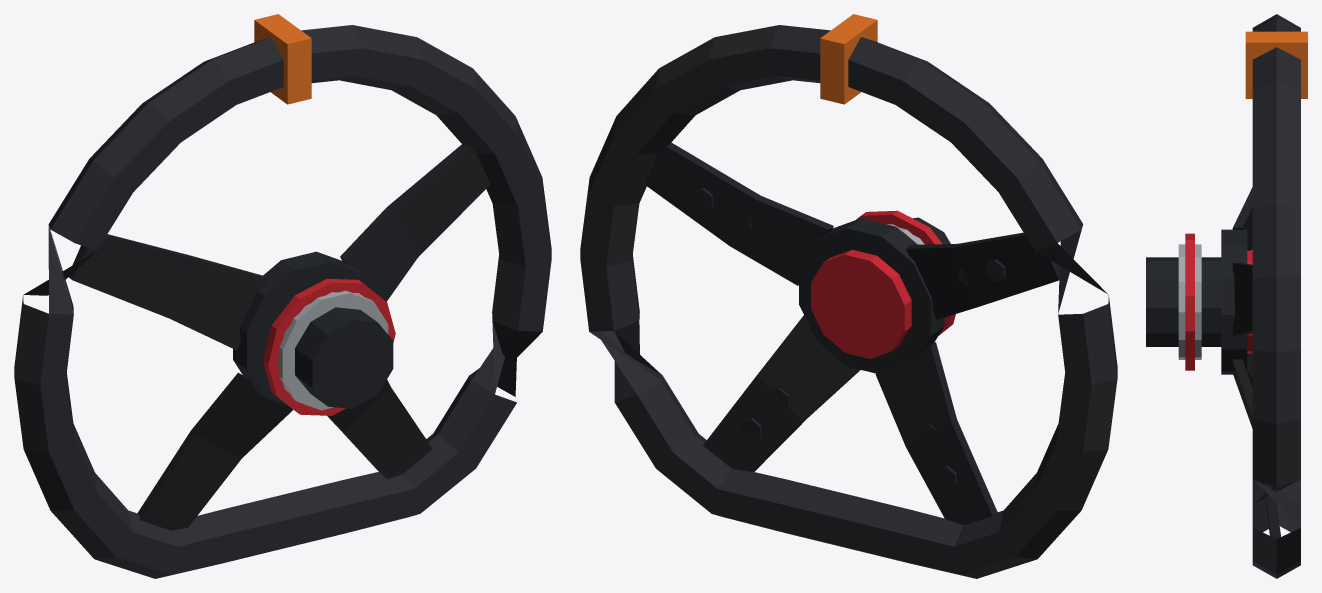
File: apex_v8.glb
The picture shows the model from 3 angles, left to right: view 1: azimuth 30°, elevation 25°; view 2: azimuth 150°, elevation 25°; view 3: azimuth 270°, elevation 25°; orthographic projection. The views are drawn at different scales.
Parts seen in each view (by area): view 1: model; view 2: model; view 3: model.
Boxes of the visible parts, x1,y1,x2,y2 form: model: (14, 14, 551, 578); model: (580, 14, 1117, 578); model: (1146, 14, 1307, 578).
Size of the model in its own units: 0.354 by 0.3272 by 0.099.
Materials: 4 (1 with a texture image).
